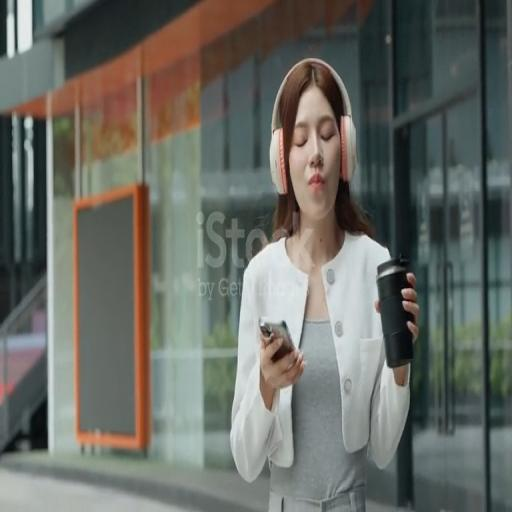earphone: (266, 56, 363, 199)
